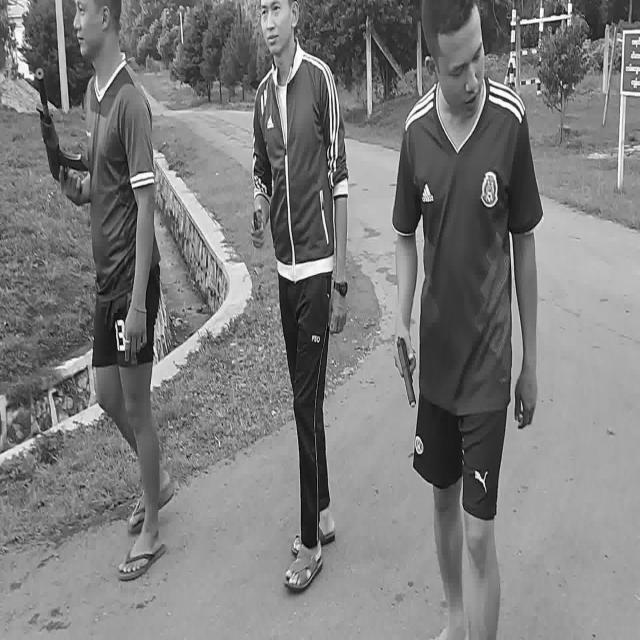gun: (34, 70, 88, 190), (397, 339, 417, 407)
